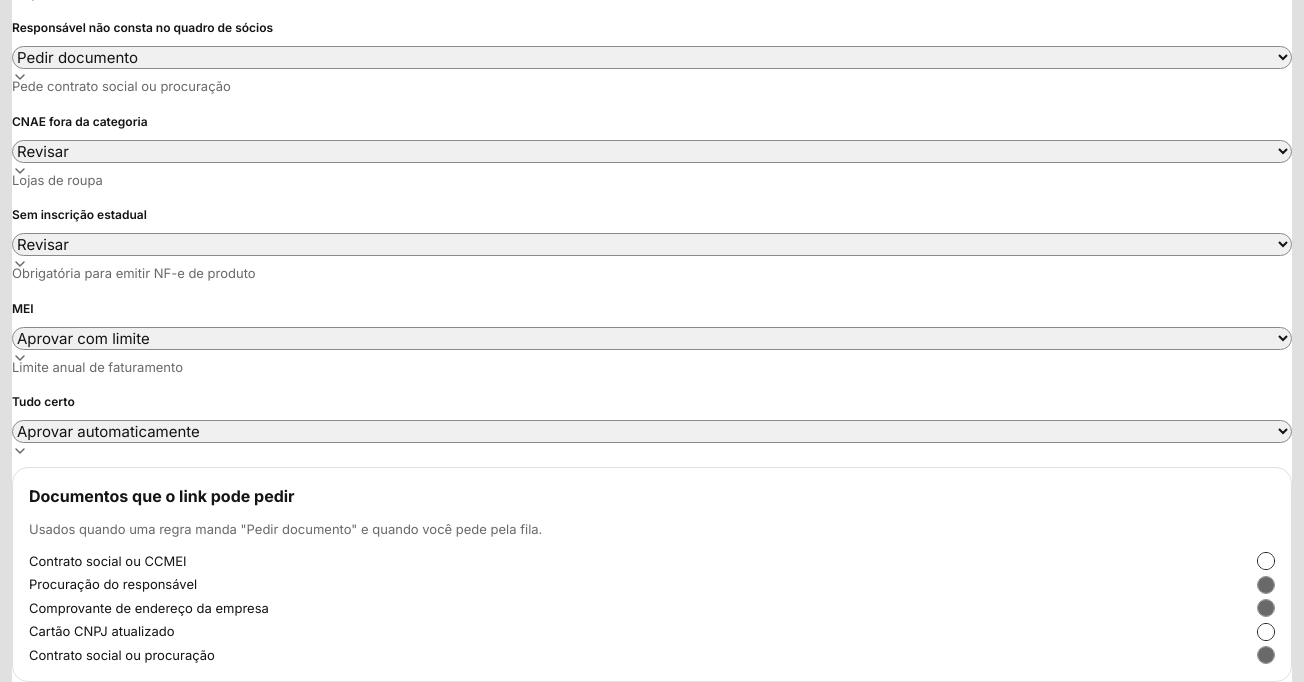
Scenario: PolicyForm › Descartar restores the server copy
(page scrolled)
Click the switch labelled "Procuração do responsável". click: (113, 584)
box: 29,575 -> 1275,594
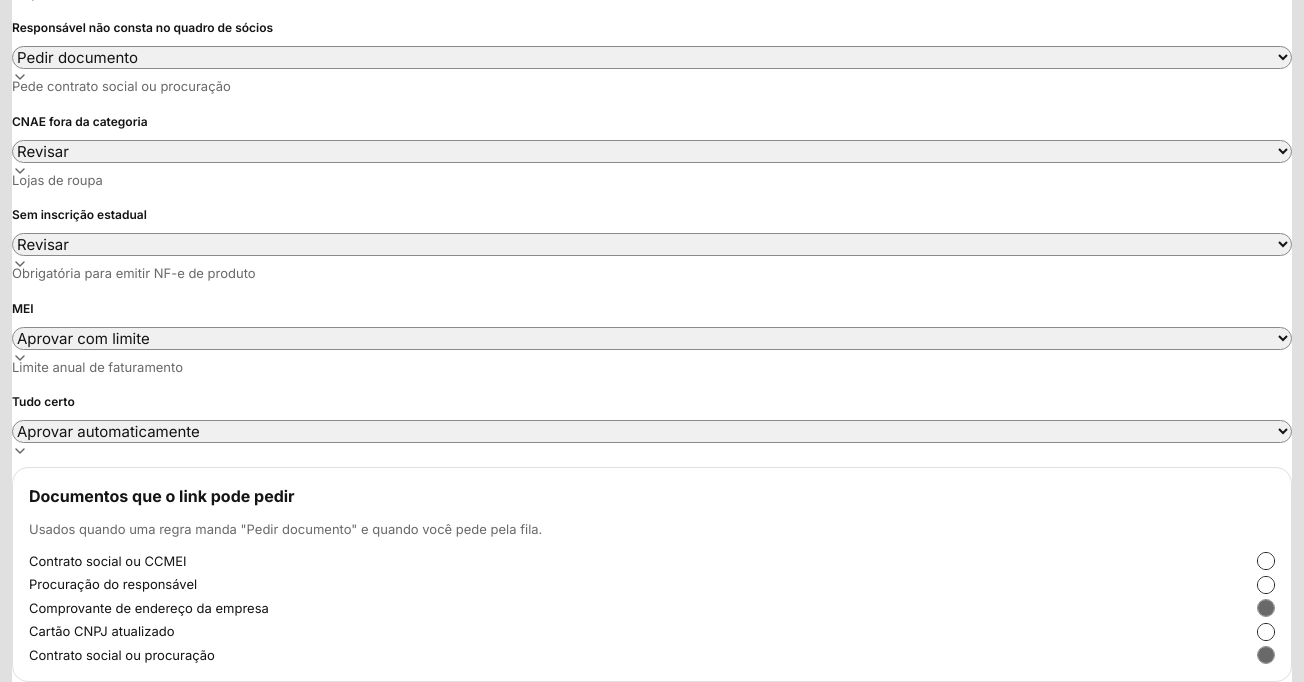
Select "Revisar" in the dropdown labelled "MEI". click: (652, 338)
box: 12,326 -> 1292,350
(page scrolled)
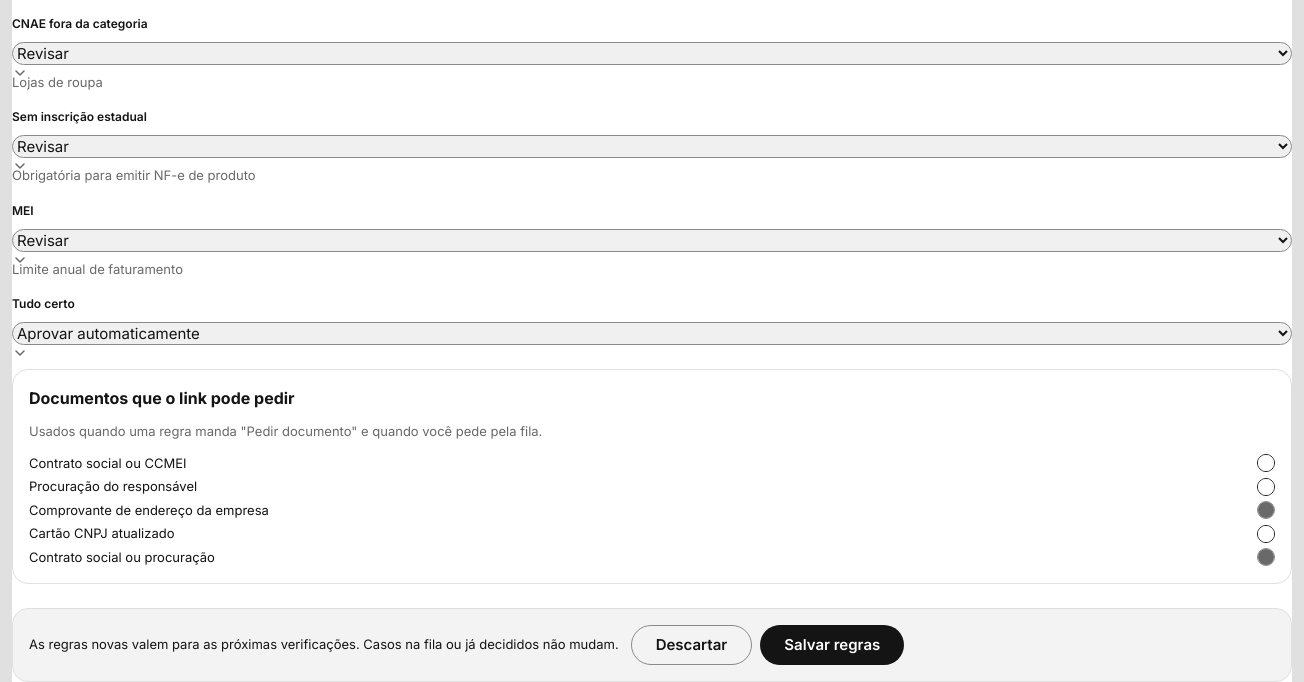
Click the button "Descartar". click: (692, 645)
box: 631,625 -> 752,665
(page scrolled)
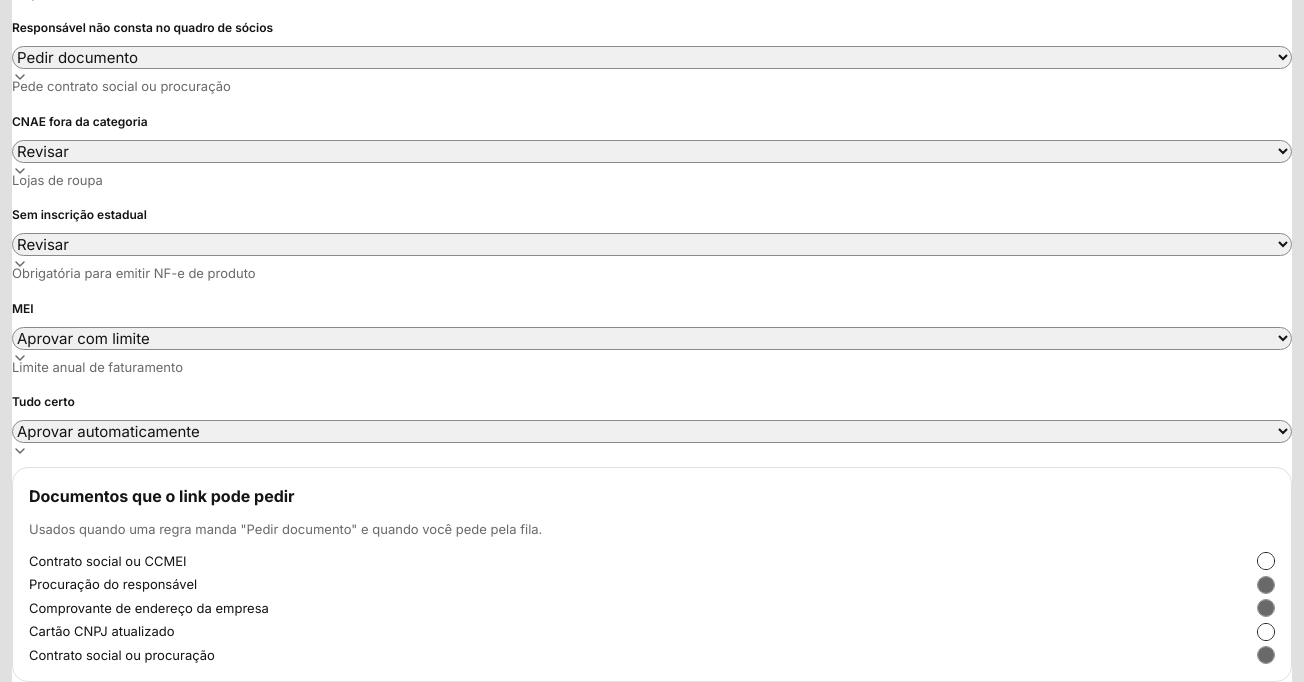
Expected: the button "Salvar regras" is gone
